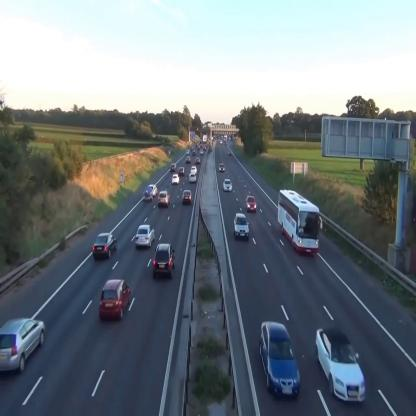car: (316, 328, 366, 403), (258, 321, 302, 398), (0, 317, 46, 375), (100, 280, 130, 320), (153, 243, 176, 280), (92, 232, 118, 258), (135, 224, 156, 249), (233, 213, 250, 240), (157, 191, 171, 207), (246, 196, 257, 212), (182, 190, 192, 204), (223, 178, 232, 192), (148, 184, 158, 196), (172, 174, 180, 184), (189, 173, 196, 182), (170, 164, 177, 172), (219, 163, 225, 172), (191, 166, 197, 174), (178, 166, 184, 174)
lorry: (278, 189, 322, 256)
